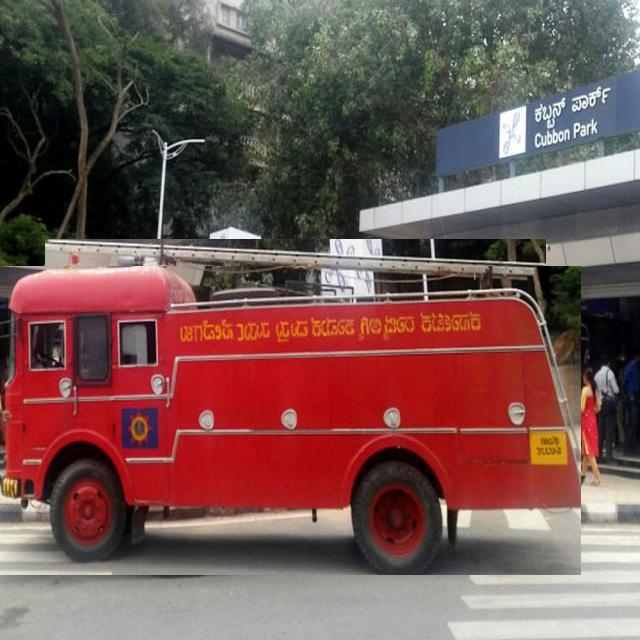emergency: (0, 266, 581, 575), (0, 266, 578, 574), (45, 240, 546, 287)
